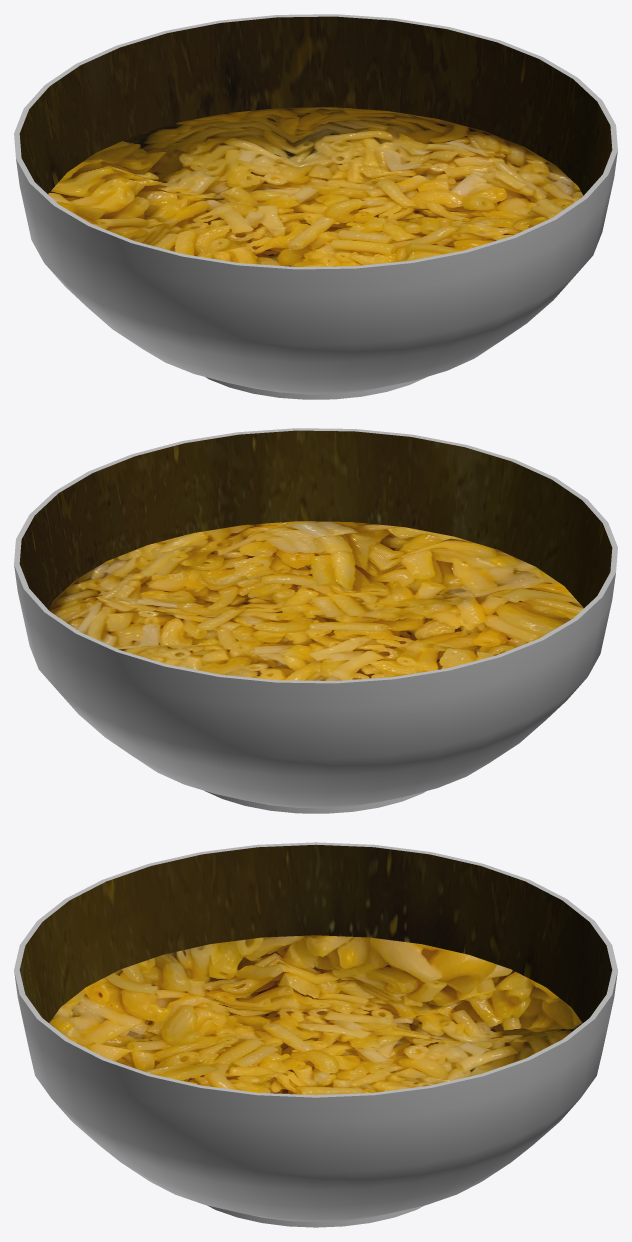
Rendered from mac_and_cheese_bowl.glb.
3 views of the same model, one above another, from view 1: azimuth 30°, elevation 25°; view 2: azimuth 150°, elevation 25°; view 3: azimuth 270°, elevation 25° (orthographic).
Visible parts, largest first — view 1: Object_2; view 2: Object_2; view 3: Object_2.
Part boxes in pixels (<box>): Object_2: <box>14,14,617,399</box>; Object_2: <box>14,428,617,813</box>; Object_2: <box>14,842,617,1227</box>.
Size of the model in its own units: 2 by 0.7224 by 2.
1 material, 1 textured.
